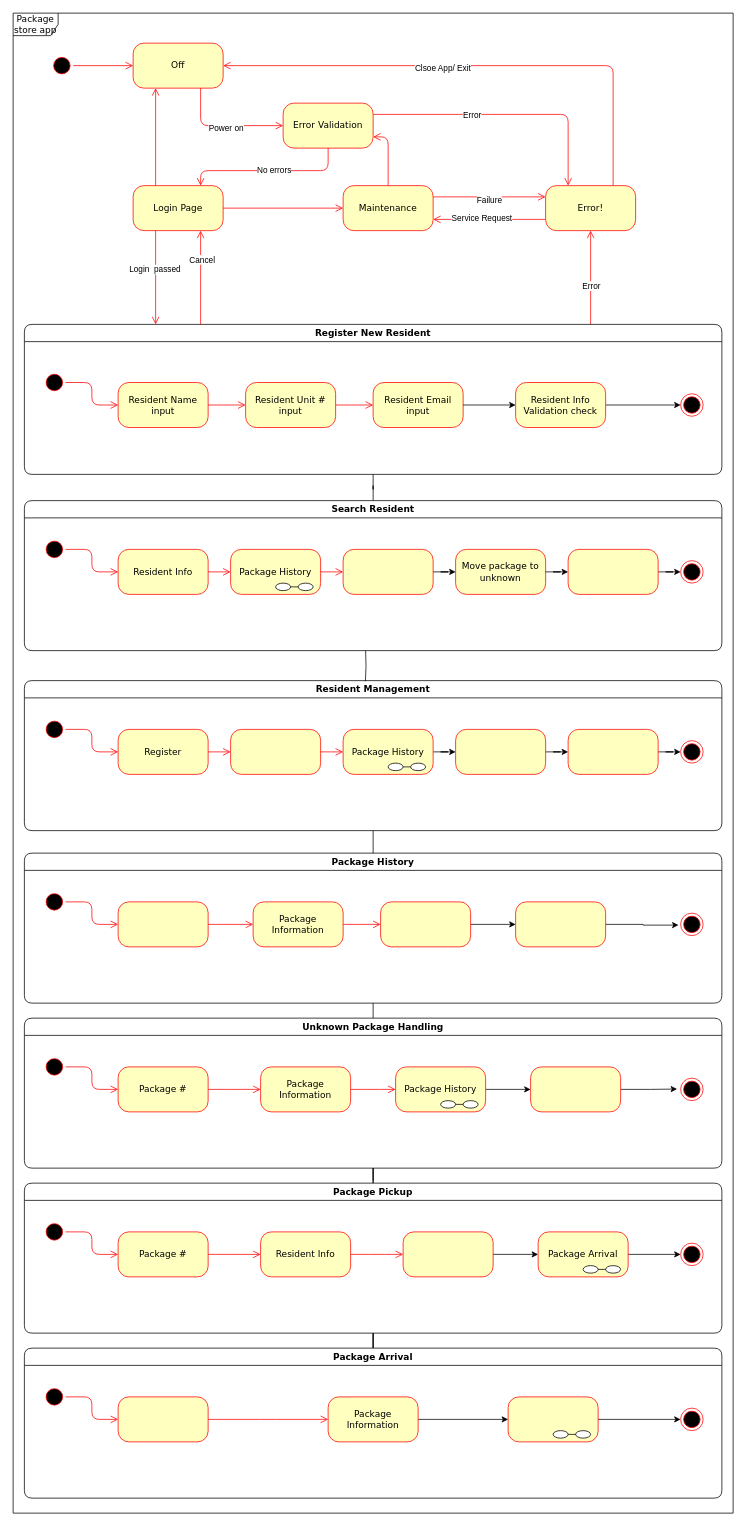
The diagram is 746 pixels wide and 1526 high, and some of its shapes have lost their labels. Here are the shapes that lost their labels. From the top down, the centre of each, then its label:
At (387,571): "Preferred Postal Service Agency".
At (612,571): "Remove pending package/Pick up".
At (275,751): "Unit #".
At (500,751): "Pending Packages".
At (612,751): "Remove Resident".
At (162,924): "Return Package #".
At (425,924): "Resident".
At (560,924): "Status of Package".
At (575,1089): "Time in Unknown storage".
At (447,1254): "Pending package".
At (162,1419): "Package Confirmation".
At (552,1419): "Pickup".
